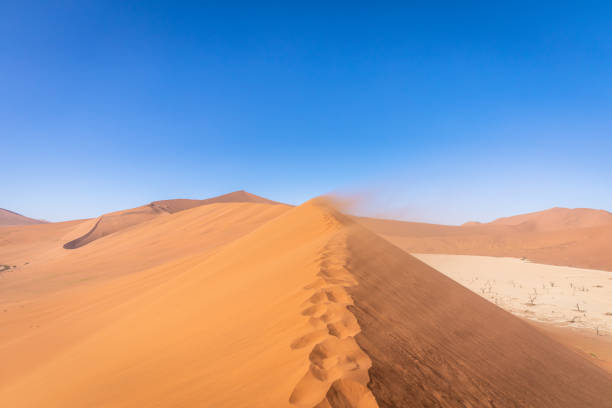human_foot_print: (298, 238, 388, 407)
